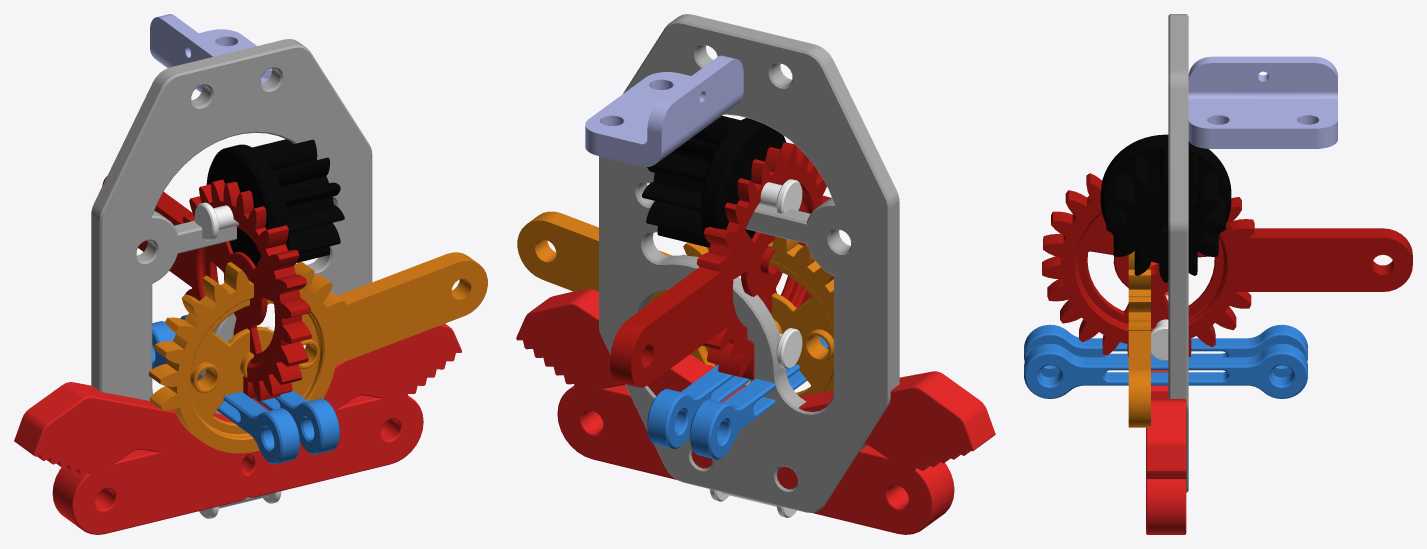
The model's file is Robot Gripper_assembled.glb.
3 renders of one model, left to right at view 1: azimuth 30°, elevation 25°; view 2: azimuth 150°, elevation 25°; view 3: azimuth 270°, elevation 25°, orthographic. The views are drawn at different scales.
Visible parts, largest first — view 1: Base Plate, Gear Link 2, Gripper R, Gripper L, Gear Link 1, Drive Gear, Link 2, Mount Bracket, Link 1, Pin 1; view 2: Base Plate, Gear Link 1, Gripper L, Gripper R, Gear Link 2, Mount Bracket, Drive Gear, Link 2, Link 1, Pin 1, Pin 2; view 3: Gear Link 1, Mount Bracket, Drive Gear, Link 1, Base Plate, Link 2, Gear Link 2, Gripper L, Gripper R, Pin 2.
Boxes of the visible parts, x1,y1,x2,y2 form: Base Plate: (91, 39, 372, 414); Gear Link 2: (148, 252, 487, 453); Gripper R: (14, 382, 423, 497); Gripper L: (52, 323, 461, 534); Gear Link 1: (102, 176, 311, 401); Drive Gear: (206, 139, 344, 266); Link 2: (152, 321, 299, 464); Mount Bracket: (150, 14, 272, 92); Link 1: (180, 314, 339, 454); Pin 1: (194, 202, 239, 240); Base Plate: (599, 14, 899, 512); Gear Link 1: (610, 142, 831, 387); Gripper L: (516, 289, 954, 534); Gripper R: (557, 371, 995, 479); Gear Link 2: (517, 211, 833, 396); Mount Bracket: (585, 55, 743, 166); Drive Gear: (642, 115, 786, 247); Link 2: (689, 336, 828, 459); Link 1: (647, 364, 750, 449); Pin 1: (759, 179, 802, 213); Pin 2: (776, 328, 802, 368); Gear Link 1: (1042, 173, 1412, 357); Mount Bracket: (1188, 56, 1337, 148); Drive Gear: (1100, 134, 1231, 282); Link 1: (1024, 343, 1307, 398); Base Plate: (1168, 14, 1188, 492); Link 2: (1024, 324, 1307, 377); Gear Link 2: (1128, 251, 1150, 427); Gripper L: (1146, 391, 1186, 479); Gripper R: (1146, 261, 1186, 534); Pin 2: (1151, 295, 1168, 360).
Size of the model in its own units: 0.0669 by 0.0645 by 0.052.
